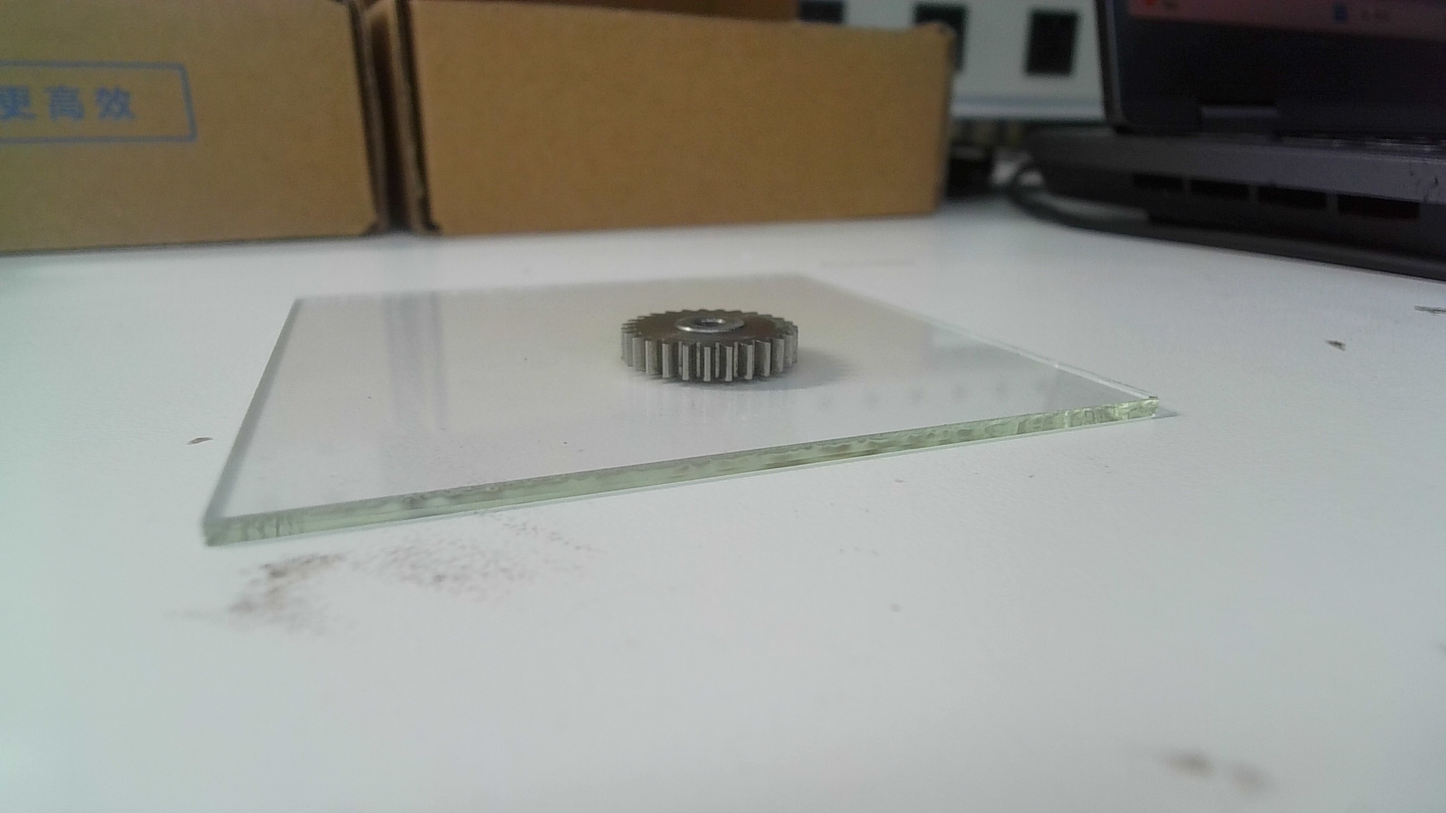gear: (616, 305, 803, 390)
